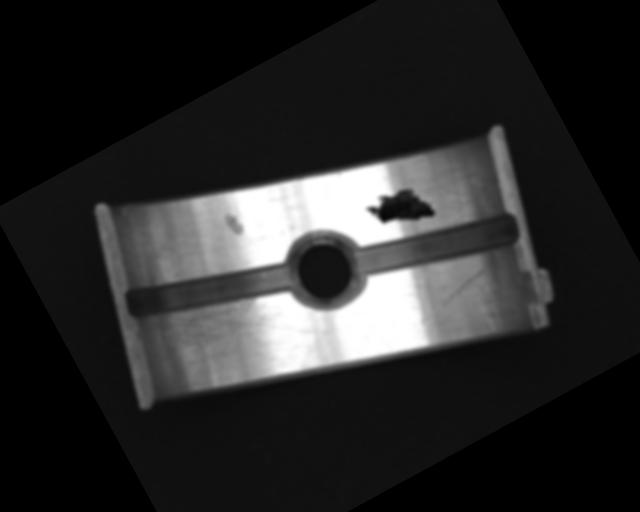blot: (362, 175, 437, 245)
bruise: (221, 208, 246, 238)
gap: (120, 217, 300, 364), (348, 175, 525, 315)
hole: (272, 220, 374, 322)
nick: (411, 264, 498, 327)
scratch: (137, 255, 309, 403)
